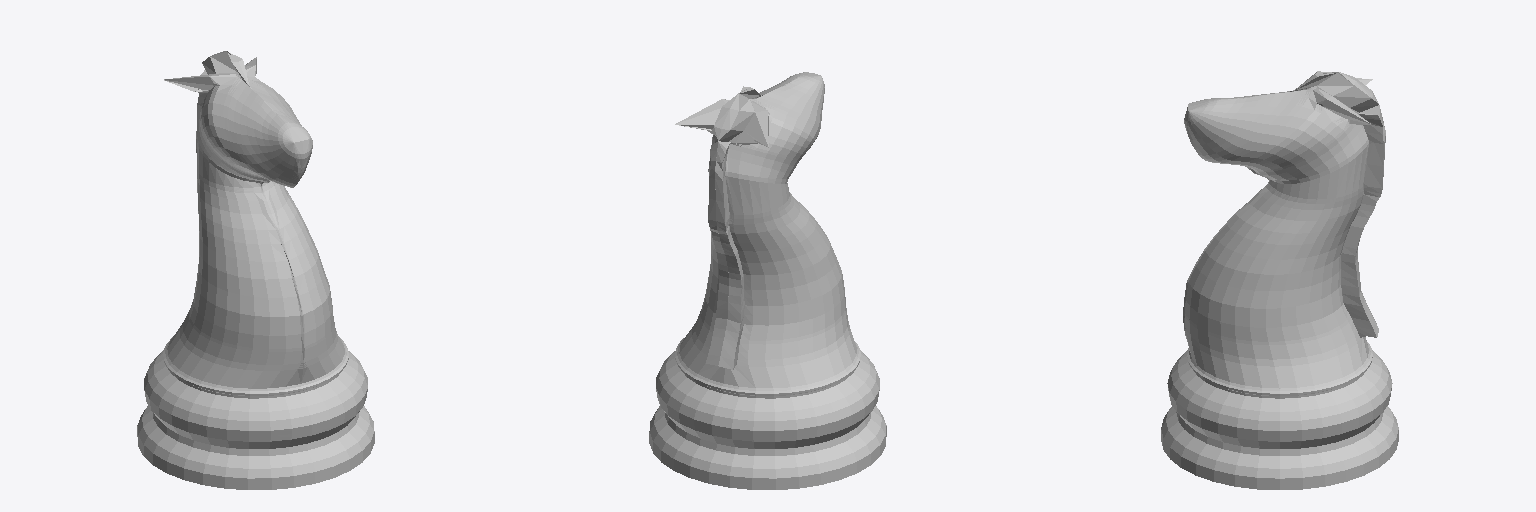
The model's file is black_knight.obj.
3 renders of one model, left to right at view 1: azimuth 30°, elevation 25°; view 2: azimuth 150°, elevation 25°; view 3: azimuth 270°, elevation 25°, orthographic.
Parts seen in each view (by area): view 1: Dark_Knight_2; view 2: Dark_Knight_2; view 3: Dark_Knight_2.
Part boxes in pixels (bbox=[...]): Dark_Knight_2: bbox=[137, 51, 374, 489]; Dark_Knight_2: bbox=[649, 72, 886, 489]; Dark_Knight_2: bbox=[1161, 71, 1398, 489].
Size of the model in its own units: 1.24 by 2.12 by 1.24.